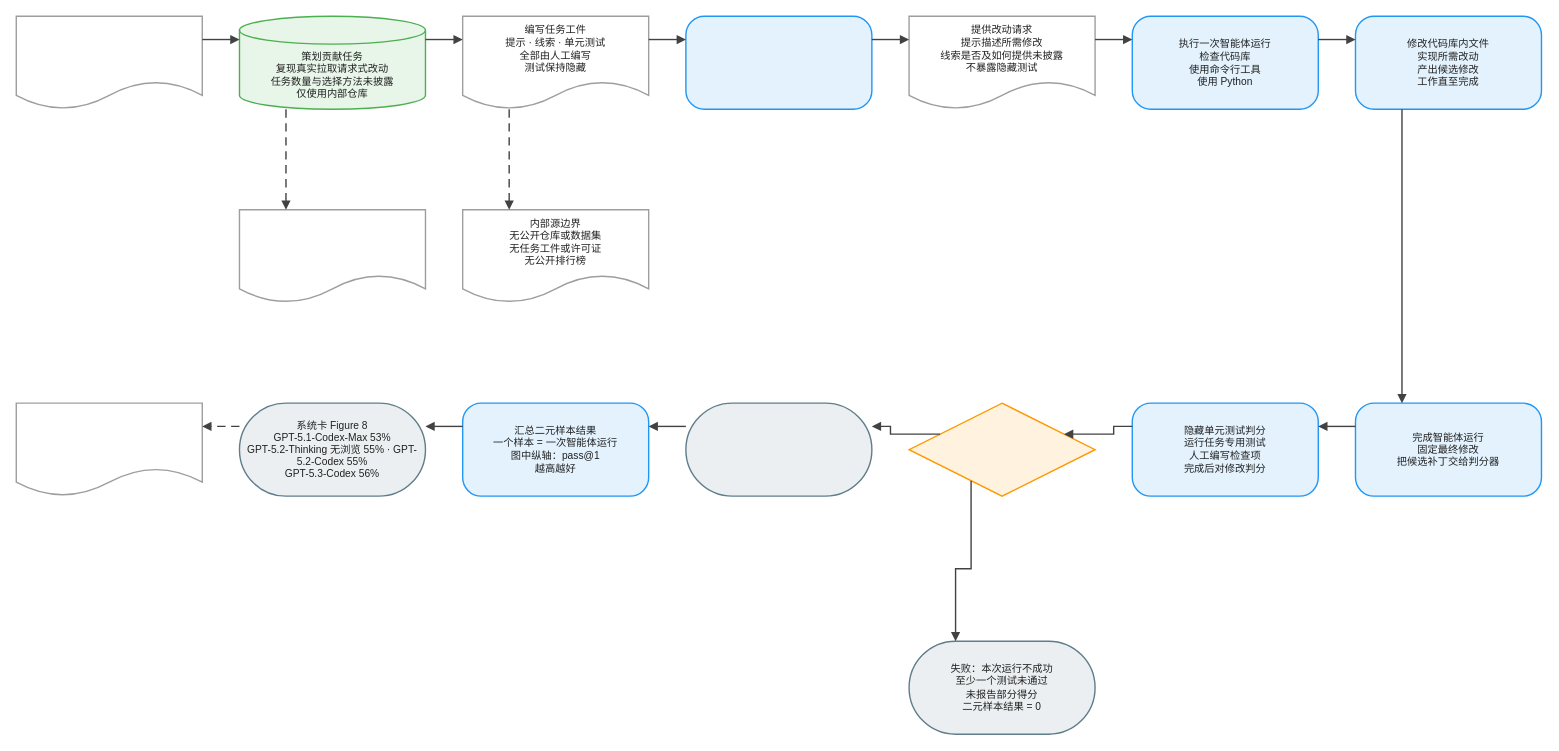
Some shapes in this 1559 by 751 pixel diagram are drawn without their labels. Each missing label, with the box of its shape:
全部隐藏测试均通过？: (908, 402, 1095, 496)
准备单个评测样本 签出代码环境 使用改动前分支 从所需改动之前开始: (685, 15, 872, 110)
定义 AI 自我改进评测 真实软件与研究工程 拉取请求式贡献 大型内部仓库: (15, 15, 203, 110)
报告边界 任务数量与选择漏斗 图中有误差线但未定义 未披露分母细节: (15, 402, 203, 496)
未披露的协议细节 任务权重 · 误差线方法 运行预算 · 工具限制 模型生成设置: (238, 209, 426, 303)
通过：本次运行成功 二元样本结果 = 1 全部任务专用测试通过: (685, 402, 872, 496)
